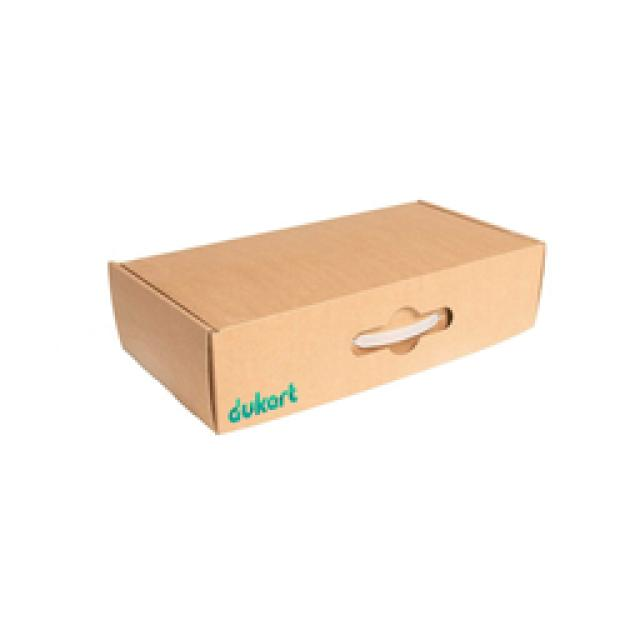cardboard: (110, 200, 542, 432)
